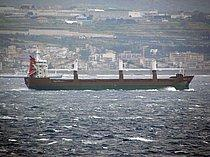Ship: (24, 52, 197, 94)
